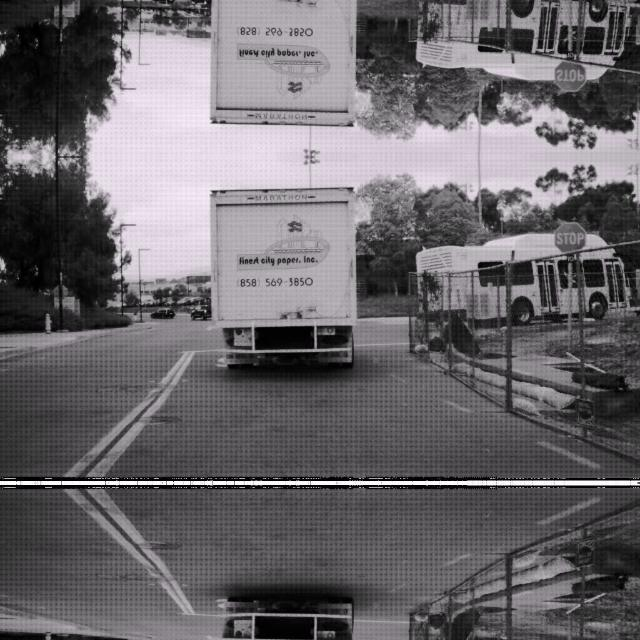stop: (554, 59, 586, 92), (554, 220, 586, 252)
